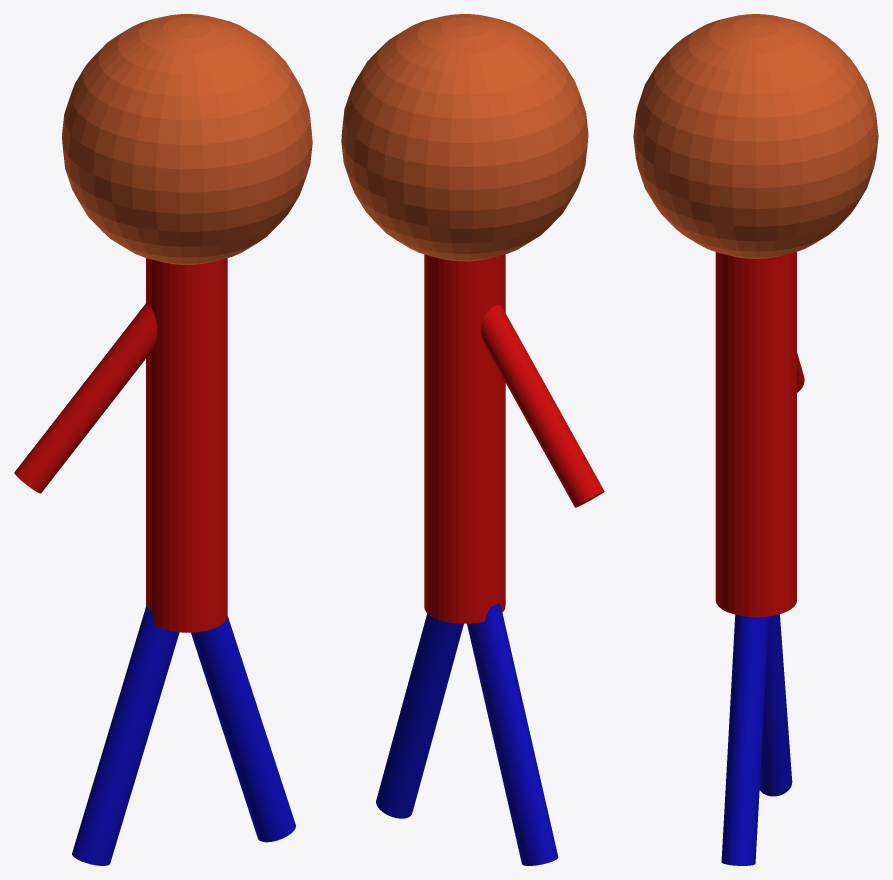
Rendered from Person.obj.
3 views of the same model, side by side, from view 1: azimuth 30°, elevation 25°; view 2: azimuth 150°, elevation 25°; view 3: azimuth 270°, elevation 25° (orthographic). The views are drawn at different scales.
Visible parts, largest first — view 1: Person; view 2: Person; view 3: Person.
Part boxes in pixels (x1=…): Person: x1=14, y1=14, x2=312, y2=865; Person: x1=341, y1=14, x2=604, y2=865; Person: x1=633, y1=14, x2=878, y2=865.
Bounding box in the file's own units: 0.1574 × 0.4707 × 0.13.
